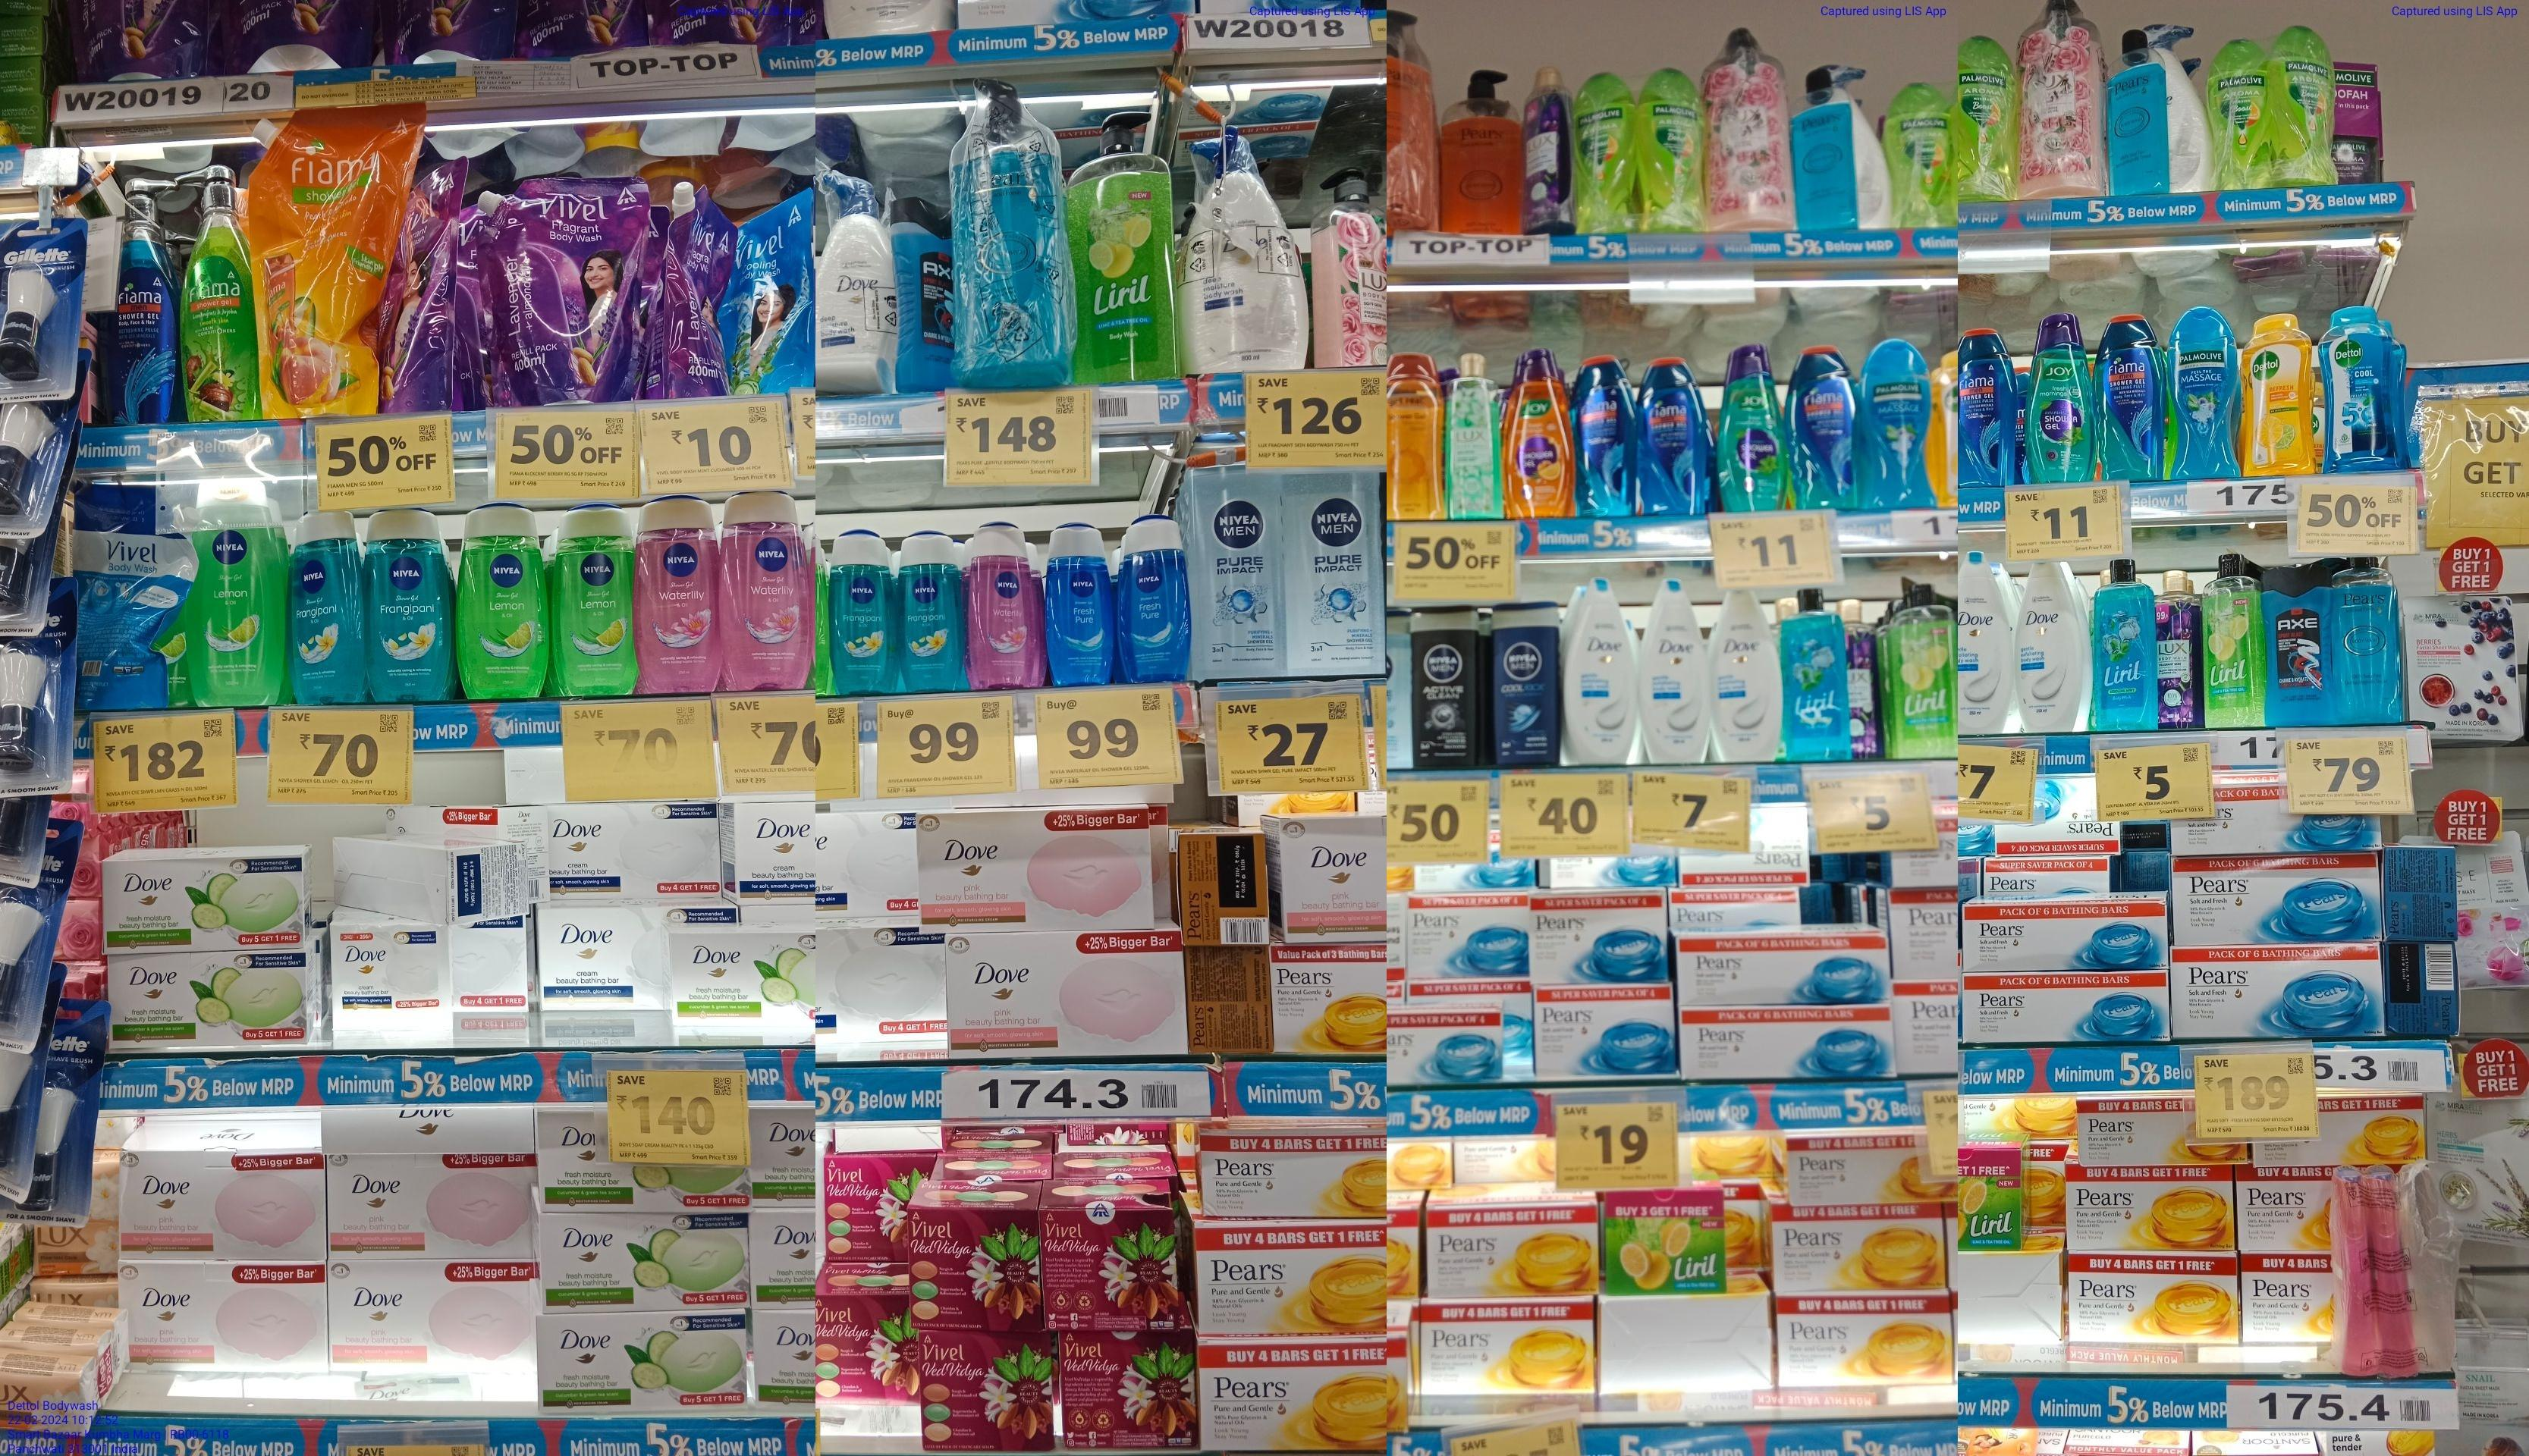Dettol_Bodywash_Cool: (2321, 306, 2402, 469)
Dettol_Bodywash_Refresh: (2239, 318, 2315, 474)
Dove_Gentle_Exfoliating_Body_Wash_250ML: (1567, 584, 1636, 770), (2015, 558, 2088, 733), (1709, 584, 1777, 764), (1641, 582, 1702, 766), (1958, 547, 2010, 737)
Get_Real_Shower_Gel_Moisturising_Glycerin_300ML: (1386, 351, 1443, 521)
Joy_Shower_Gel_Mandarin_and_Lemongrass_250ML: (1508, 353, 1572, 516)
Joy_Shower_Gel_Mint_and_Eucalyptus_250ML: (2024, 311, 2095, 481), (1720, 346, 1786, 509)
Liril_Cooling_Mint_Body_Wash_250ML: (1782, 591, 1852, 761), (2091, 559, 2157, 730)
Liril_Lime_and_Tea_Tree_Oil_Body_Wash_250ML: (1890, 579, 1954, 759), (2208, 553, 2263, 728)
Lux_Black_Orchid_Scent_and_Juniper_Oil_Body_Wash_245ML: (1523, 68, 1577, 231), (2161, 570, 2204, 728)
Lux_Body_Wash_Skin_Detox_Freesia_Scent_and_Alove_Vera_245ML: (1447, 351, 1502, 518)
Nivea_Shower_Gel_Frangipani_and_Oil_250ML: (370, 509, 450, 700), (288, 518, 366, 704), (832, 533, 901, 693), (905, 533, 966, 688)
Nivea_Shower_Gel_Lemon_and_Oil_250ML: (195, 478, 281, 705), (460, 506, 547, 698), (552, 502, 636, 697)
Nivea_Shower_Gel_Waterlily_and_Oil_250ML: (728, 493, 811, 692), (639, 500, 723, 690), (971, 526, 1033, 688)
Palmolive_Aroma_Moments_Feel_The_Massage_Shower_Gel_250ML: (1859, 335, 1937, 509), (2169, 308, 2234, 478)
Pears_Pure_Glycerin_and_Mint_Extracts_Body_Wash_250ML: (2333, 553, 2404, 723), (2105, 33, 2168, 193)
